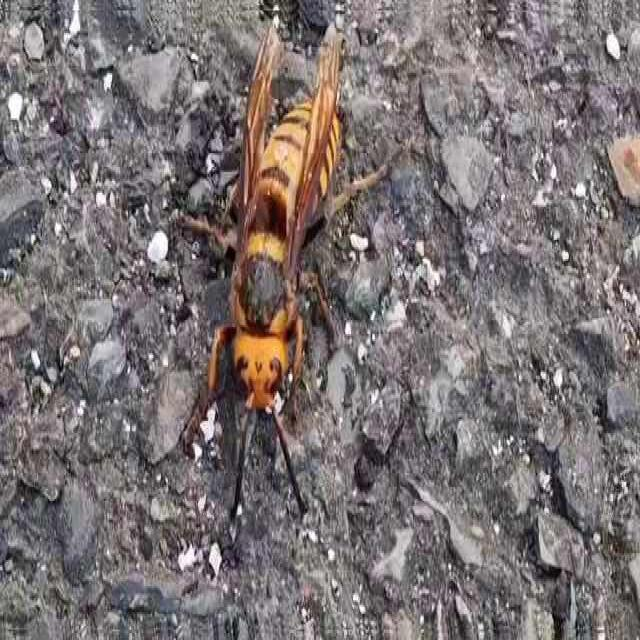Wasp: (187, 19, 387, 514)
